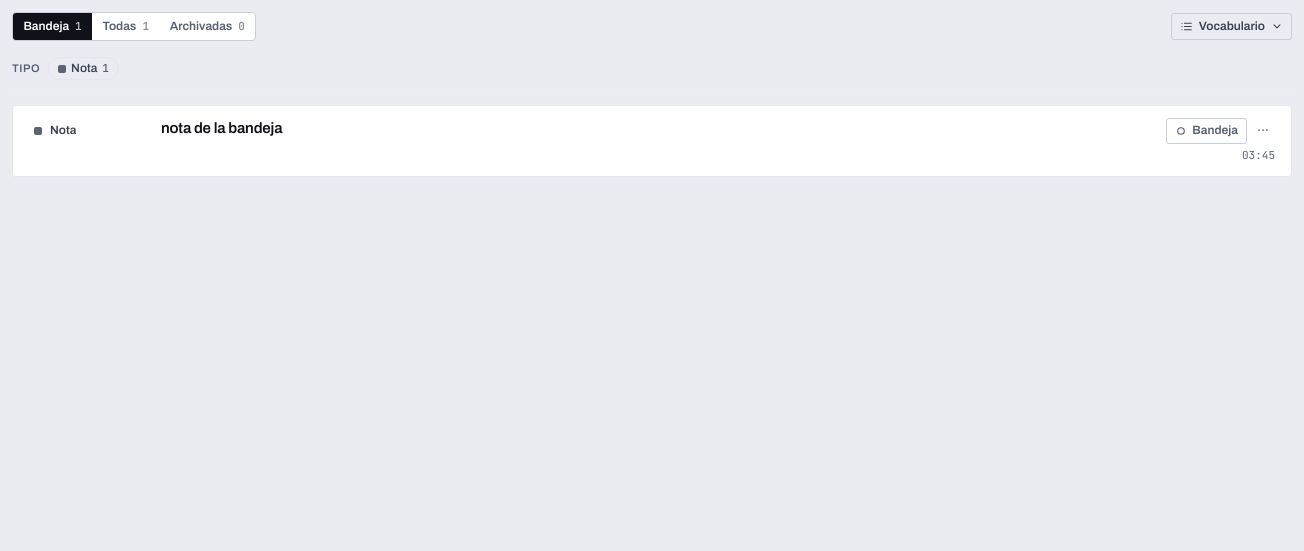
Test: F2 — un fallo que la fila no puede contar › informa de un cambio de estado que falla, aunque la nota salga de la bandeja
Expected: the link "nota de la bandeja" is shown, 161,120 -> 282,136
Click the button with aria-label "Estado:" at {"x": 1207, "y": 131}, box 1166,118 -> 1247,144
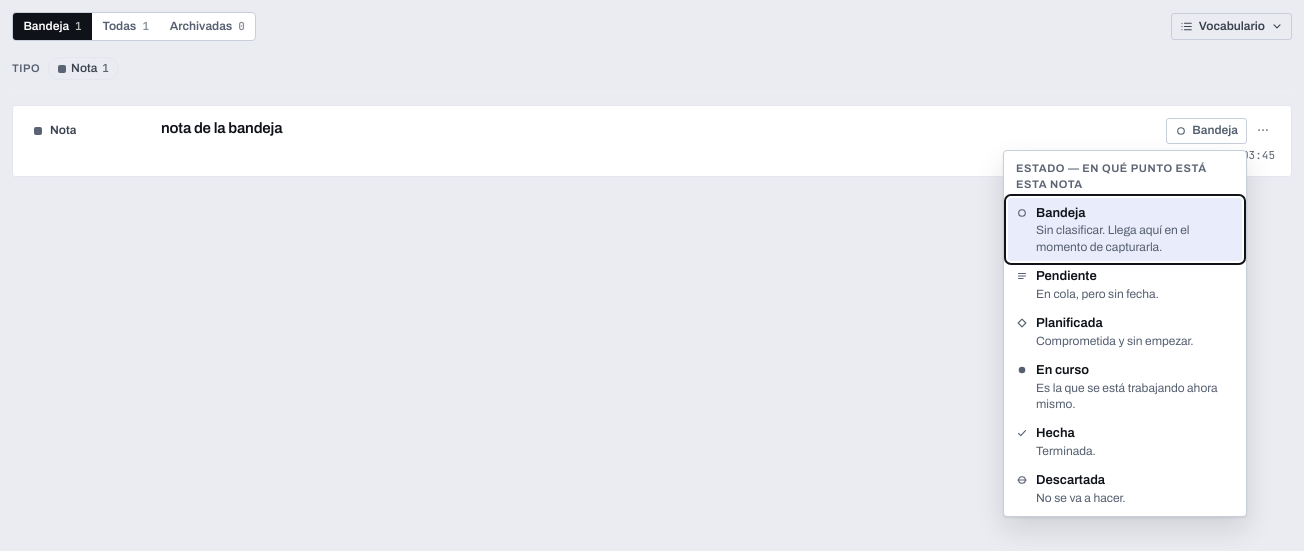
Click the menu item "Hecha Terminada." at {"x": 1125, "y": 442}, box 1008,418 -> 1242,465
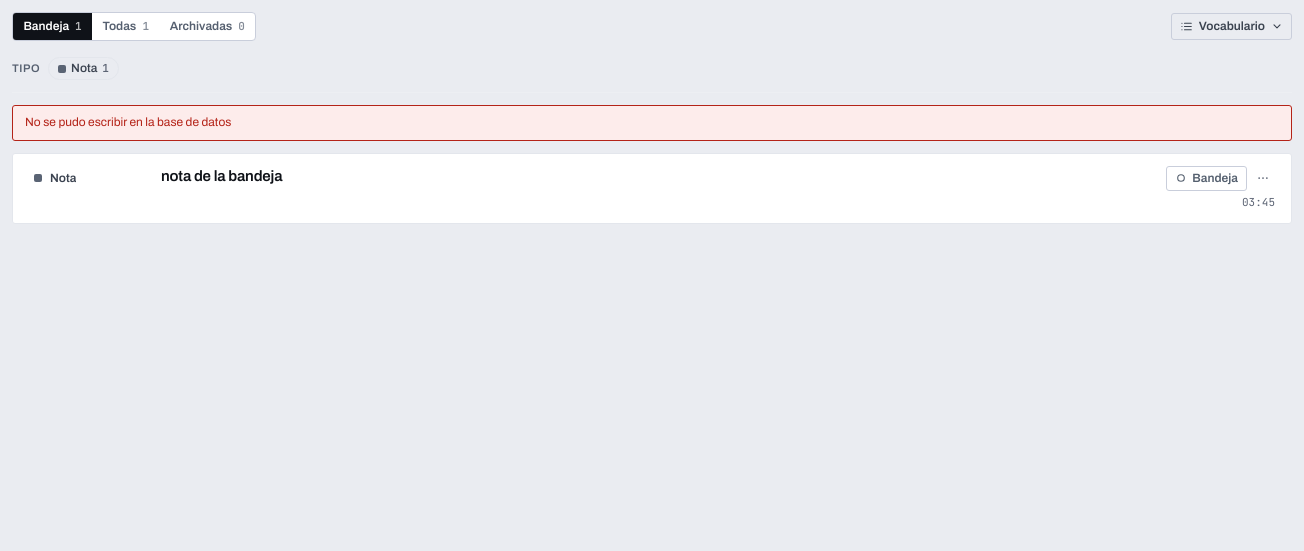
Expected: the link "nota de la bandeja" is shown, 161,168 -> 282,184
Expected: the message reads "No se pudo escribir en la base de datos", 25,115 -> 231,129
